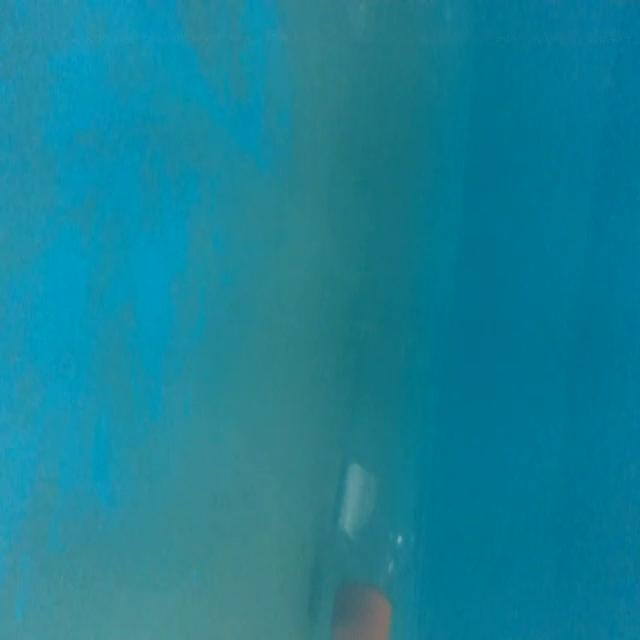plastic bottle: (321, 336, 438, 639)
